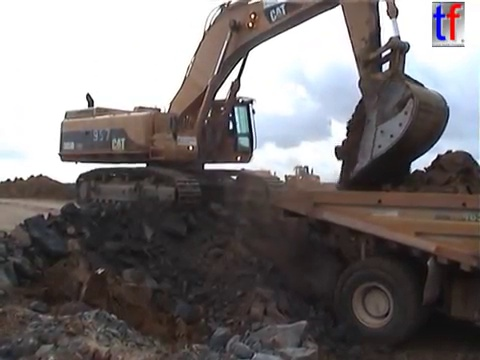excavator: (55, 1, 454, 224)
truck: (260, 179, 480, 352)
wheel loader: (273, 163, 322, 194)
